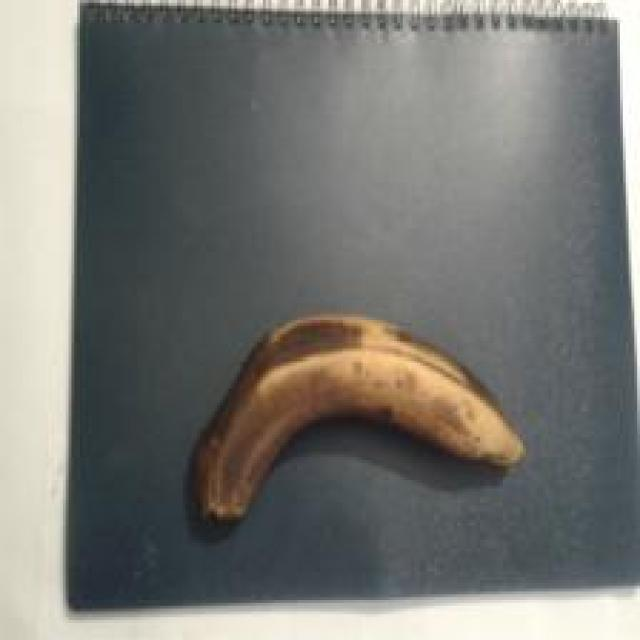Rotten_Banana: (170, 302, 519, 519)
